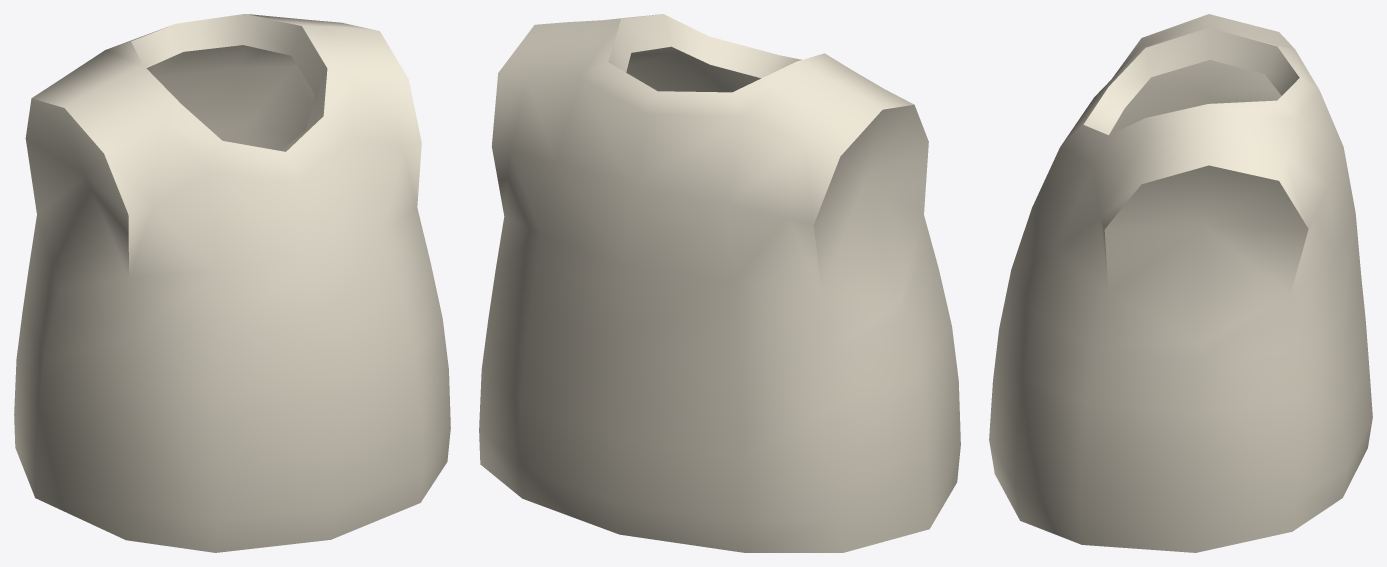
The model's file is Top_1.fbx.
3 views of the same model, side by side, from view 1: azimuth 30°, elevation 25°; view 2: azimuth 150°, elevation 25°; view 3: azimuth 270°, elevation 25° (orthographic). The views are drawn at different scales.
Visible parts, largest first — view 1: Top_1; view 2: Top_1; view 3: Top_1.
Boxes of the visible parts, x1,y1,x2,y2 form: Top_1: (14, 14, 450, 552); Top_1: (479, 14, 960, 552); Top_1: (989, 14, 1372, 552).
Bounding box in the file's own units: 40.41 × 41.36 × 35.24.
